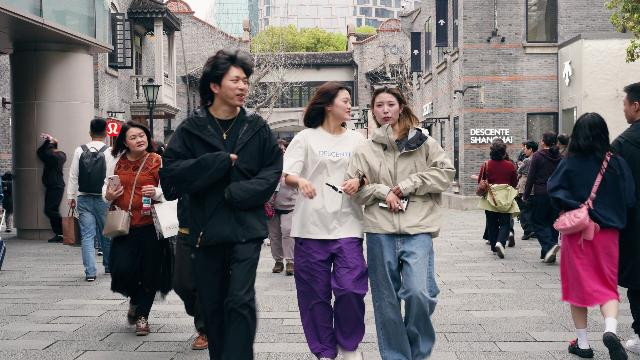person: (159, 48, 284, 360), (347, 83, 456, 360), (281, 81, 371, 360), (553, 100, 629, 360), (102, 120, 176, 338), (67, 117, 117, 282), (610, 81, 640, 354), (470, 140, 521, 258), (522, 130, 564, 263), (264, 139, 298, 275), (36, 137, 67, 243), (503, 148, 519, 247), (0, 170, 15, 233)
